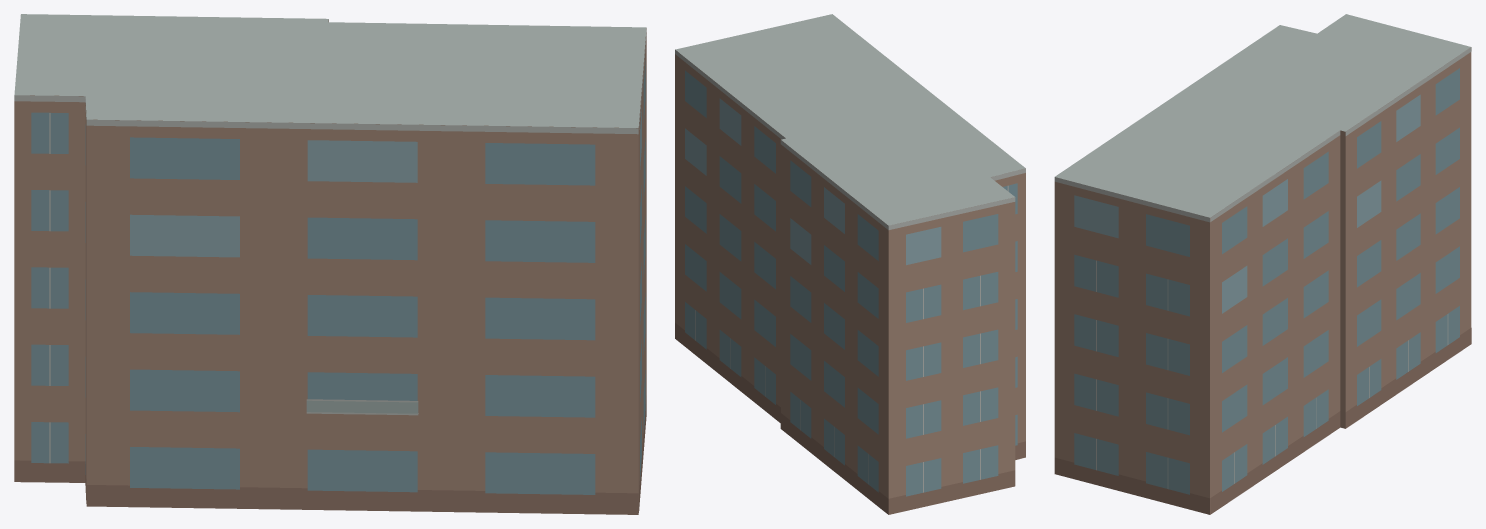
Rendered from survey-upis-32680205.glb.
3 views of the same model, side by side, from view 1: azimuth 30°, elevation 25°; view 2: azimuth 150°, elevation 25°; view 3: azimuth 270°, elevation 25° (orthographic). The views are drawn at different scales.
Visible parts, largest first — view 1: survey-upis-32680205.tmp; view 2: survey-upis-32680205.tmp; view 3: survey-upis-32680205.tmp.
Part boxes in pixels (<box>): survey-upis-32680205.tmp: <box>14,14,646,514</box>; survey-upis-32680205.tmp: <box>675,14,1025,514</box>; survey-upis-32680205.tmp: <box>1054,14,1471,514</box>.
Size of the model in its own units: 22.81 by 15.5 by 19.72.
